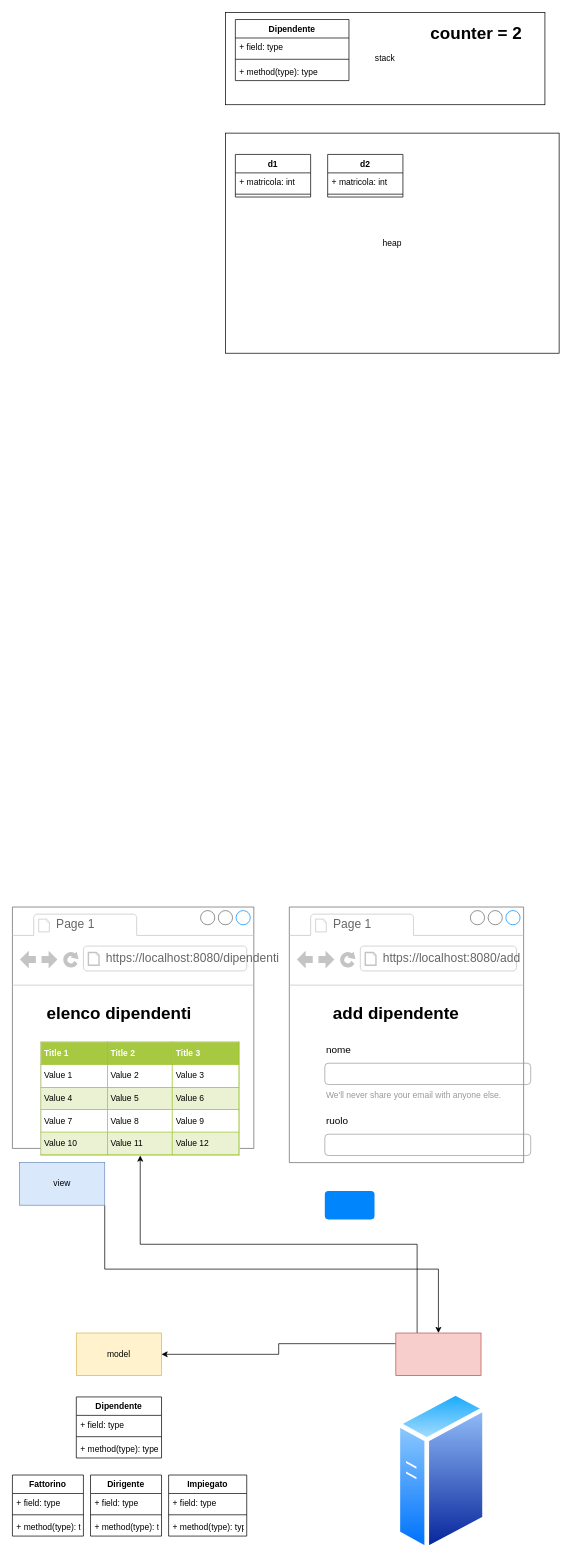
This 572x1566 diagram has some shape labels left out. Each missing label, with the centre of its shape:
"add" belongs at pixel 349 1205.
"controller" belongs at pixel 438 1354.
